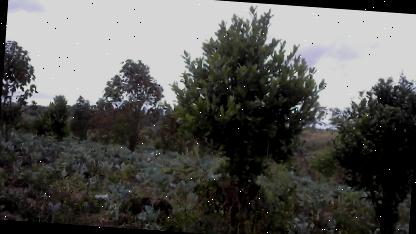tree: (153, 0, 334, 222), (319, 60, 416, 233)
